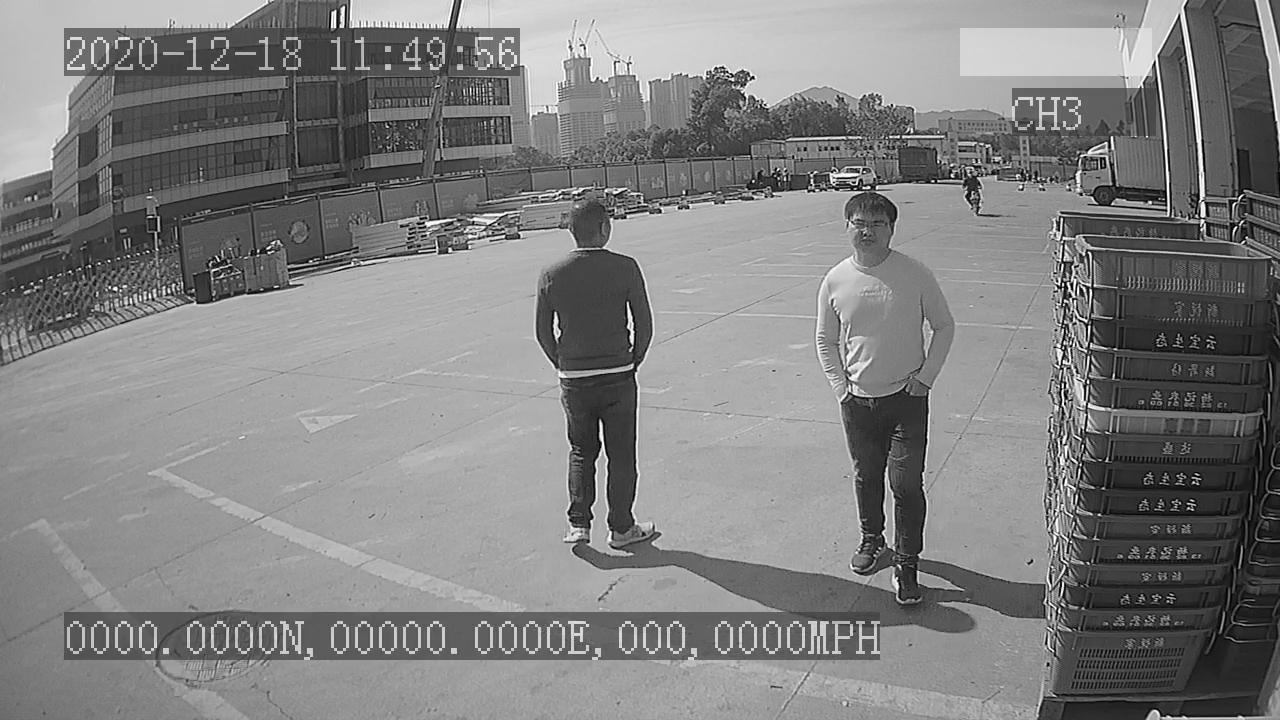person: (806, 188, 961, 608), (527, 195, 668, 554)
